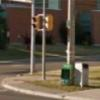traffic lights: (32, 14, 44, 32), (44, 14, 55, 33)
